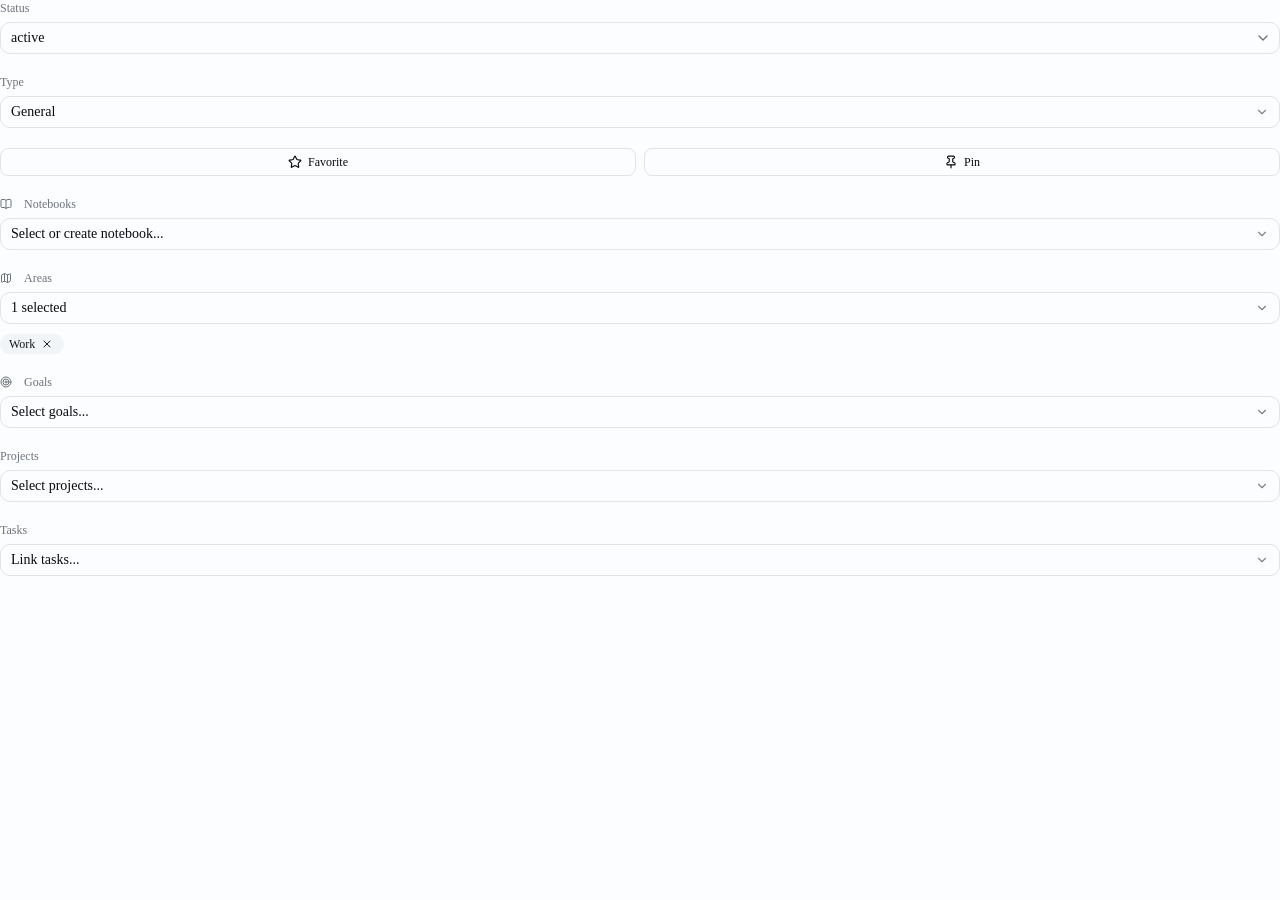
NoteMetadataPanel: unassigned entities stay visible with area filter › with area filter active, tasks of unassigned project stay visible alongside area-scoped tasks
Click the dropdown labelled "Link tasks...".
click(45, 560)  # box [0, 544, 1279, 576]
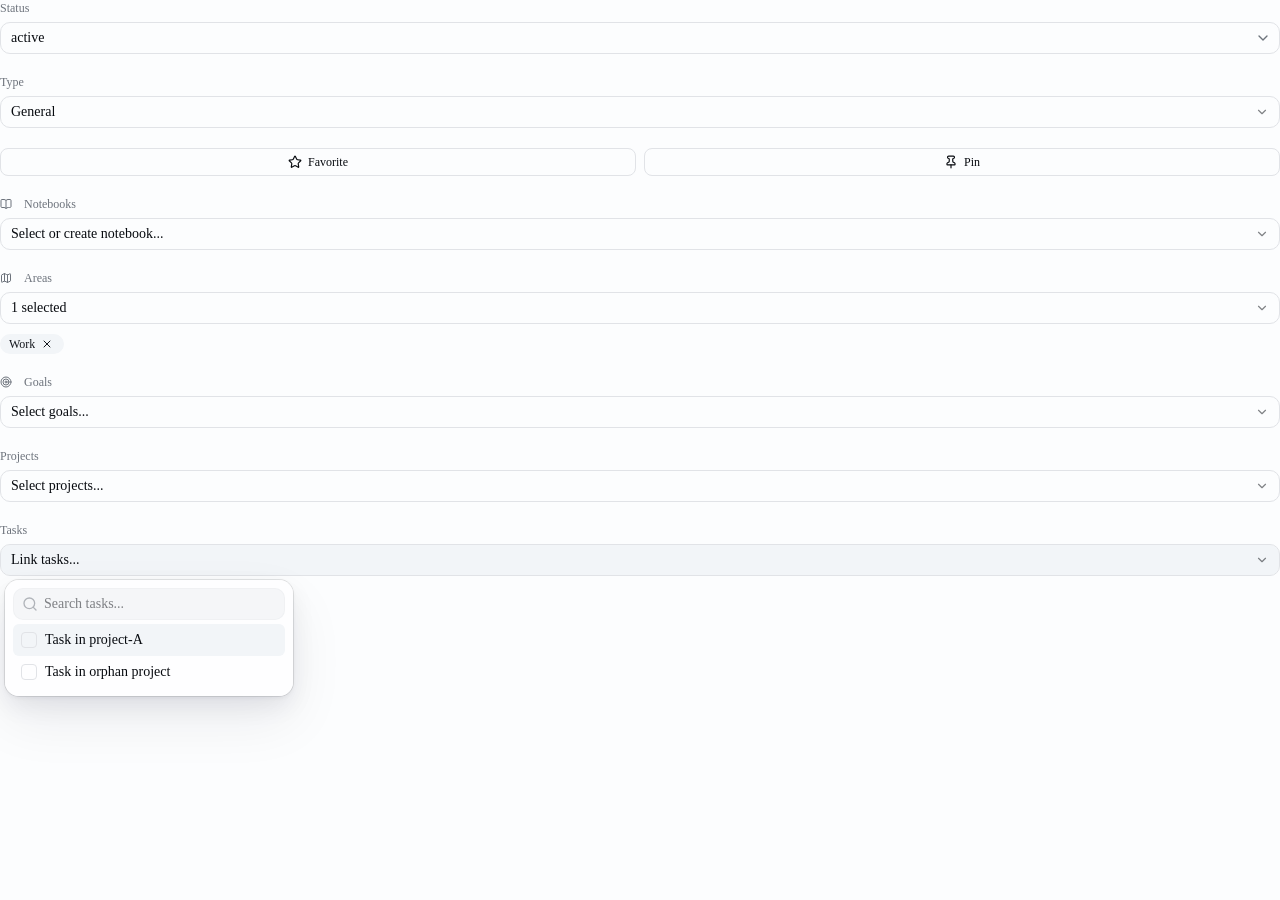
Expected: the text "Task in project-A" is shown, [45, 632, 143, 647]
Expected: the text "Task in orphan project" is shown, [45, 664, 170, 679]
